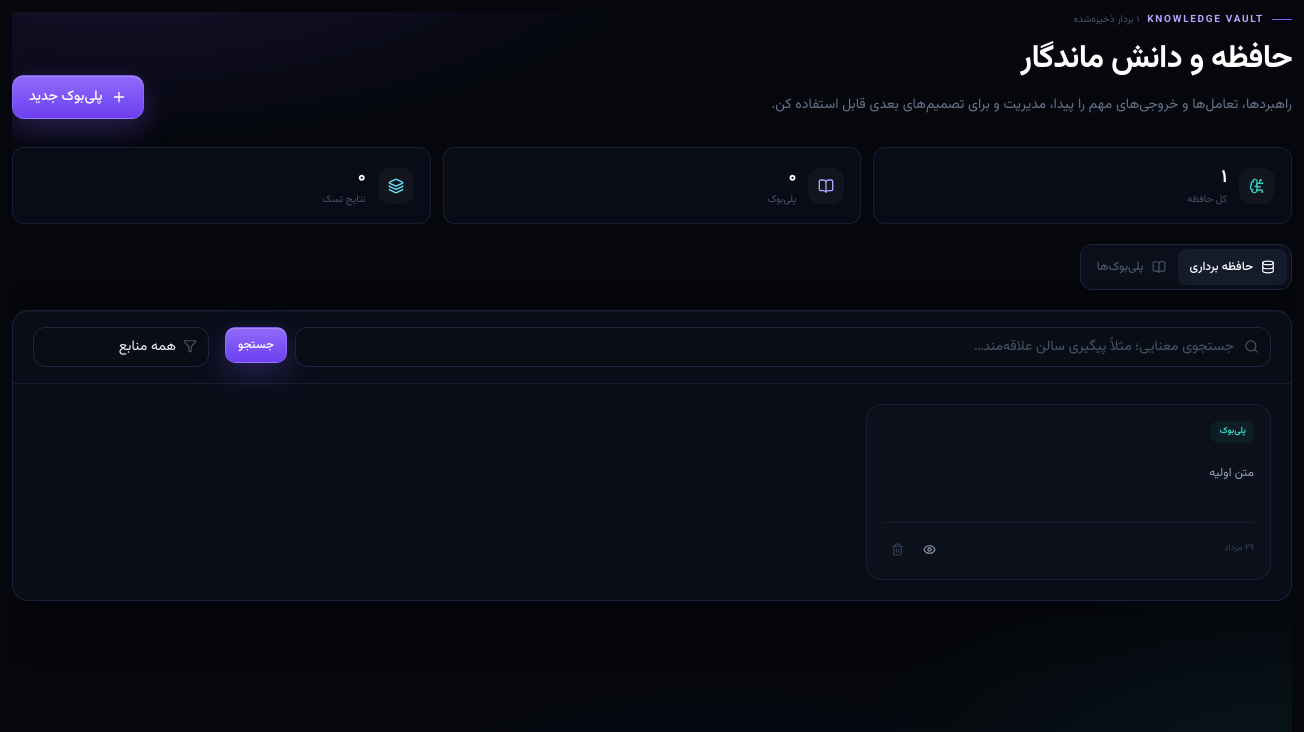
Test: Memory panel performs semantic search and displays API results
The width and height of the screenshot is (1304, 732).
Step 1. Type "پیگیری سالن" into the field named "جستجوی معنایی حافظه" → (783, 347), box [295, 327, 1271, 367]
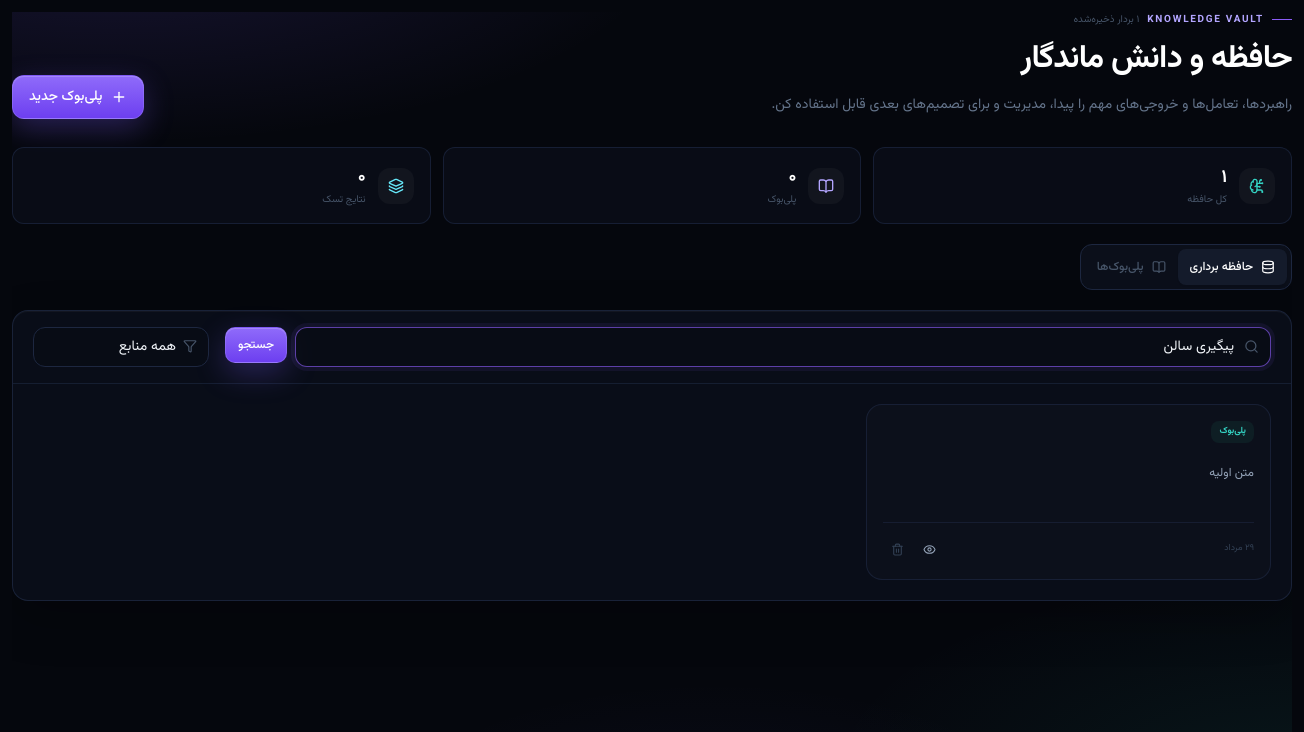
Step 2. Click the button "جستجو" → (256, 345), box [225, 327, 287, 363]
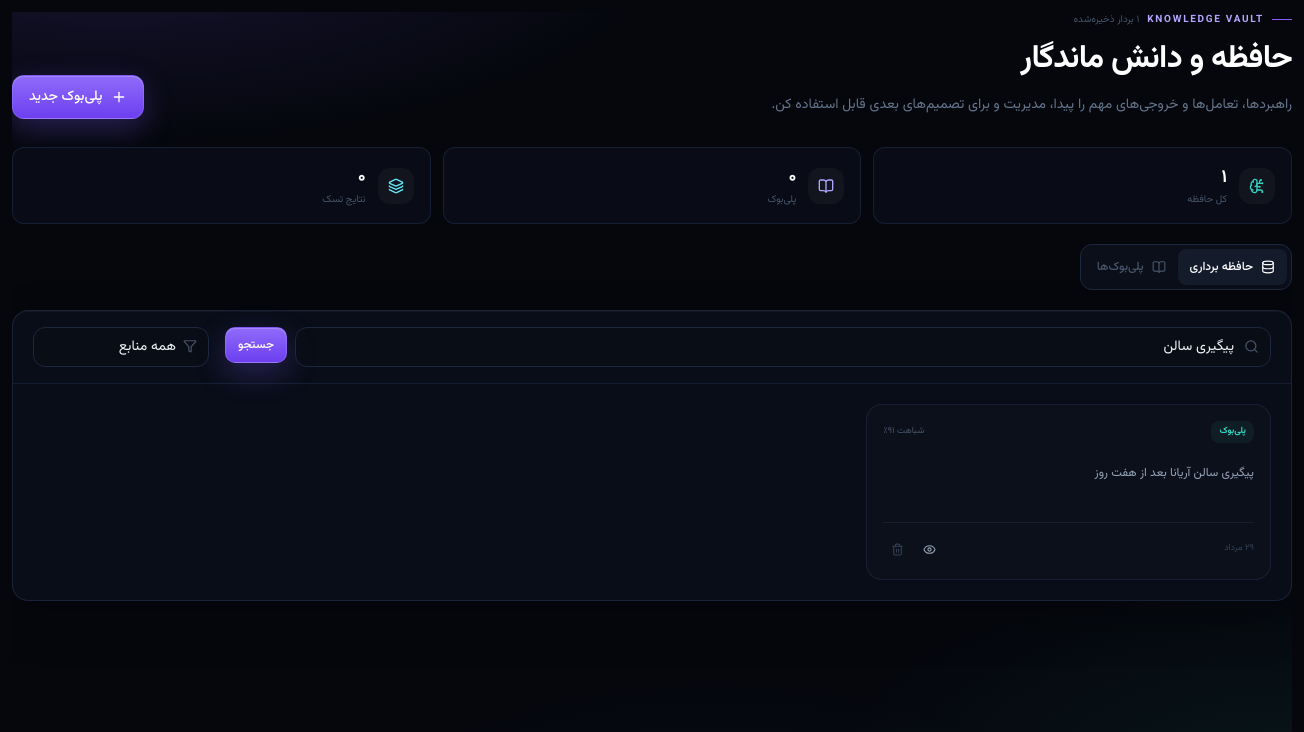
Expected: the text "پیگیری سالن آریانا بعد از هفت روز" is shown, [1095, 464, 1254, 482]
